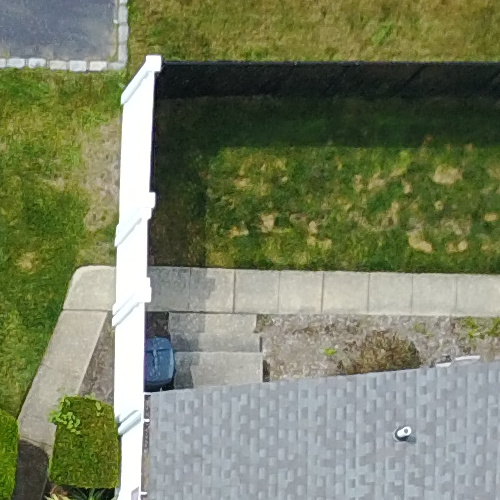trash bin: (132, 322, 181, 399)
